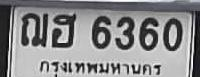0: (162, 17, 183, 52)
3: (114, 16, 135, 50)
6: (139, 16, 159, 52), (91, 15, 112, 49)
A12: (20, 12, 49, 48)
A44: (51, 13, 77, 48)
BKK: (36, 55, 165, 77)
